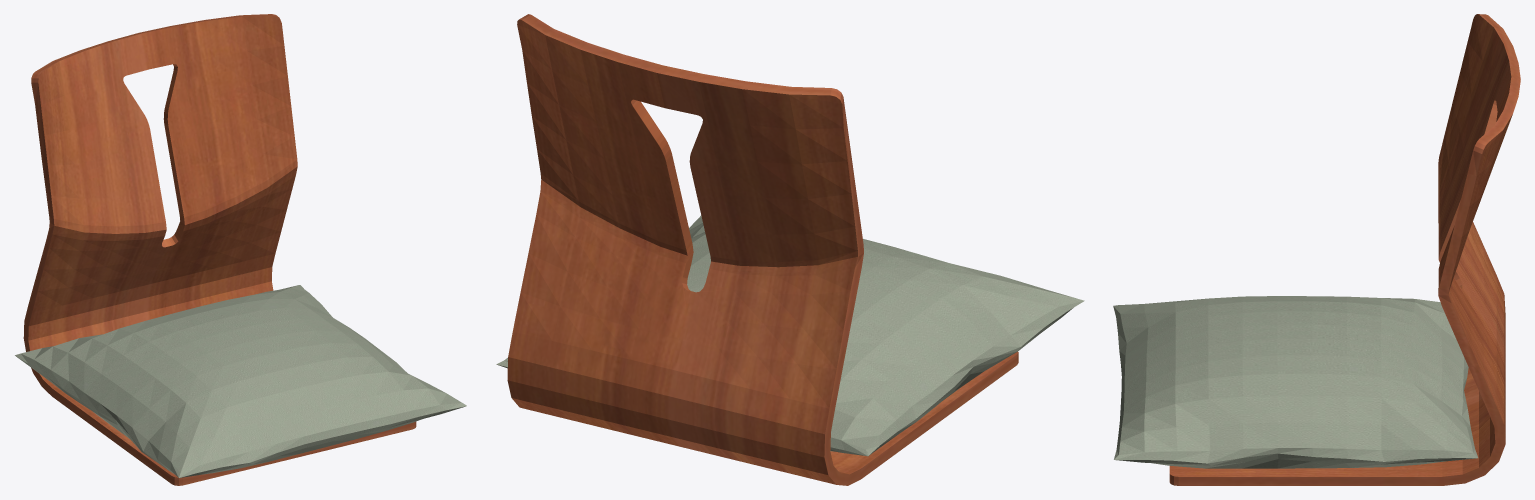
The model's file is sweethome3d-scopia-ryokan-chair.glb.
3 renders of one model, left to right at view 1: azimuth 30°, elevation 25°; view 2: azimuth 150°, elevation 25°; view 3: azimuth 270°, elevation 25°, orthographic. The views are drawn at different scales.
Parts seen in each view (by area): view 1: chair_Cube, cushion_Cube.002; view 2: chair_Cube, cushion_Cube.002; view 3: cushion_Cube.002, chair_Cube.
Part boxes in pixels (x1,y1,x2,y2): chair_Cube: [23, 14, 416, 485]; cushion_Cube.002: [15, 285, 466, 477]; chair_Cube: [507, 14, 1018, 485]; cushion_Cube.002: [496, 215, 1084, 456]; cushion_Cube.002: [1113, 296, 1478, 468]; chair_Cube: [1169, 14, 1520, 485].
Size of the model in its own units: 53.29 by 54.82 by 58.97.
2 materials, 2 textured.
